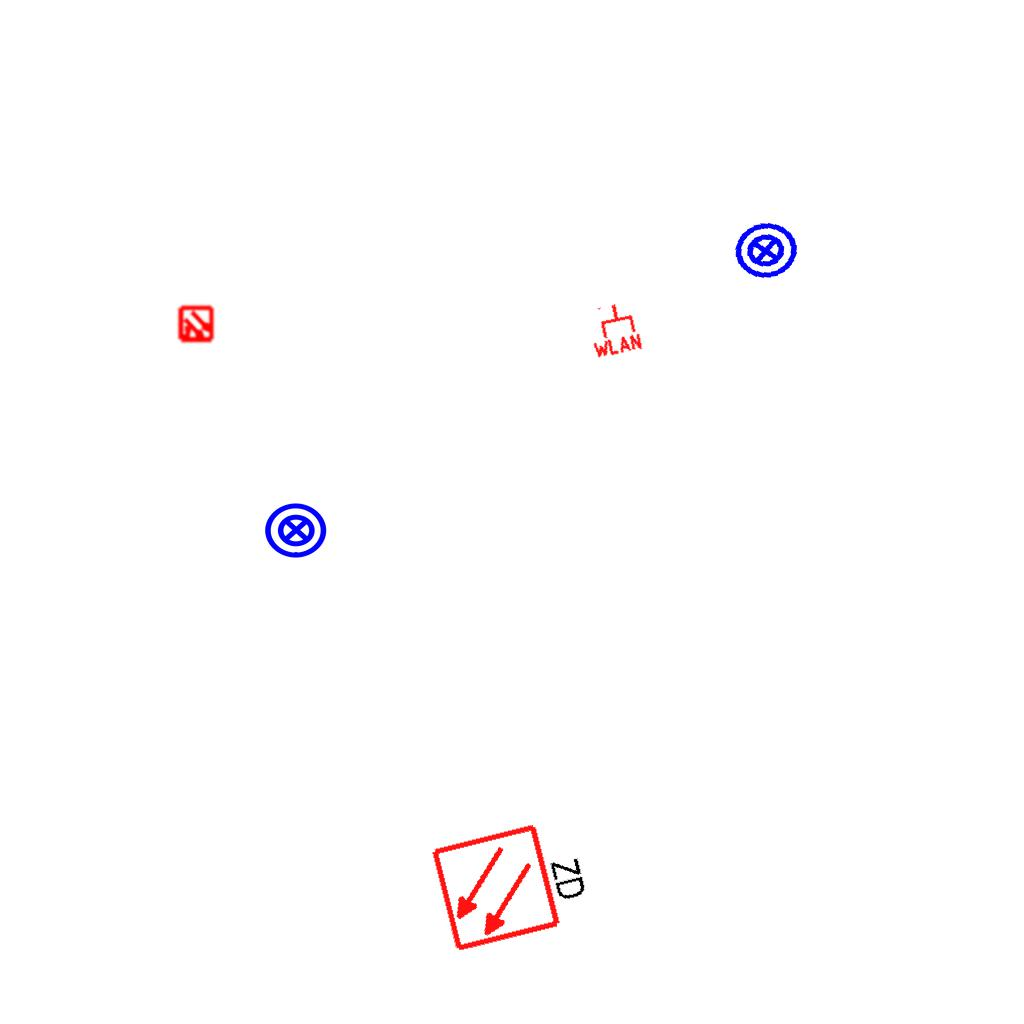OT_Multisensormelder_(Kombination_RMO_WMD): (168, 297, 224, 353)
Taster_beleuchtet: (728, 213, 804, 289), (263, 497, 329, 563)
WLAN: (583, 298, 645, 360)
ZD_Melder_in_Zwischendecke_mit_Revisionsoeffnung_mind_40_x_40_cm: (427, 808, 601, 955)
